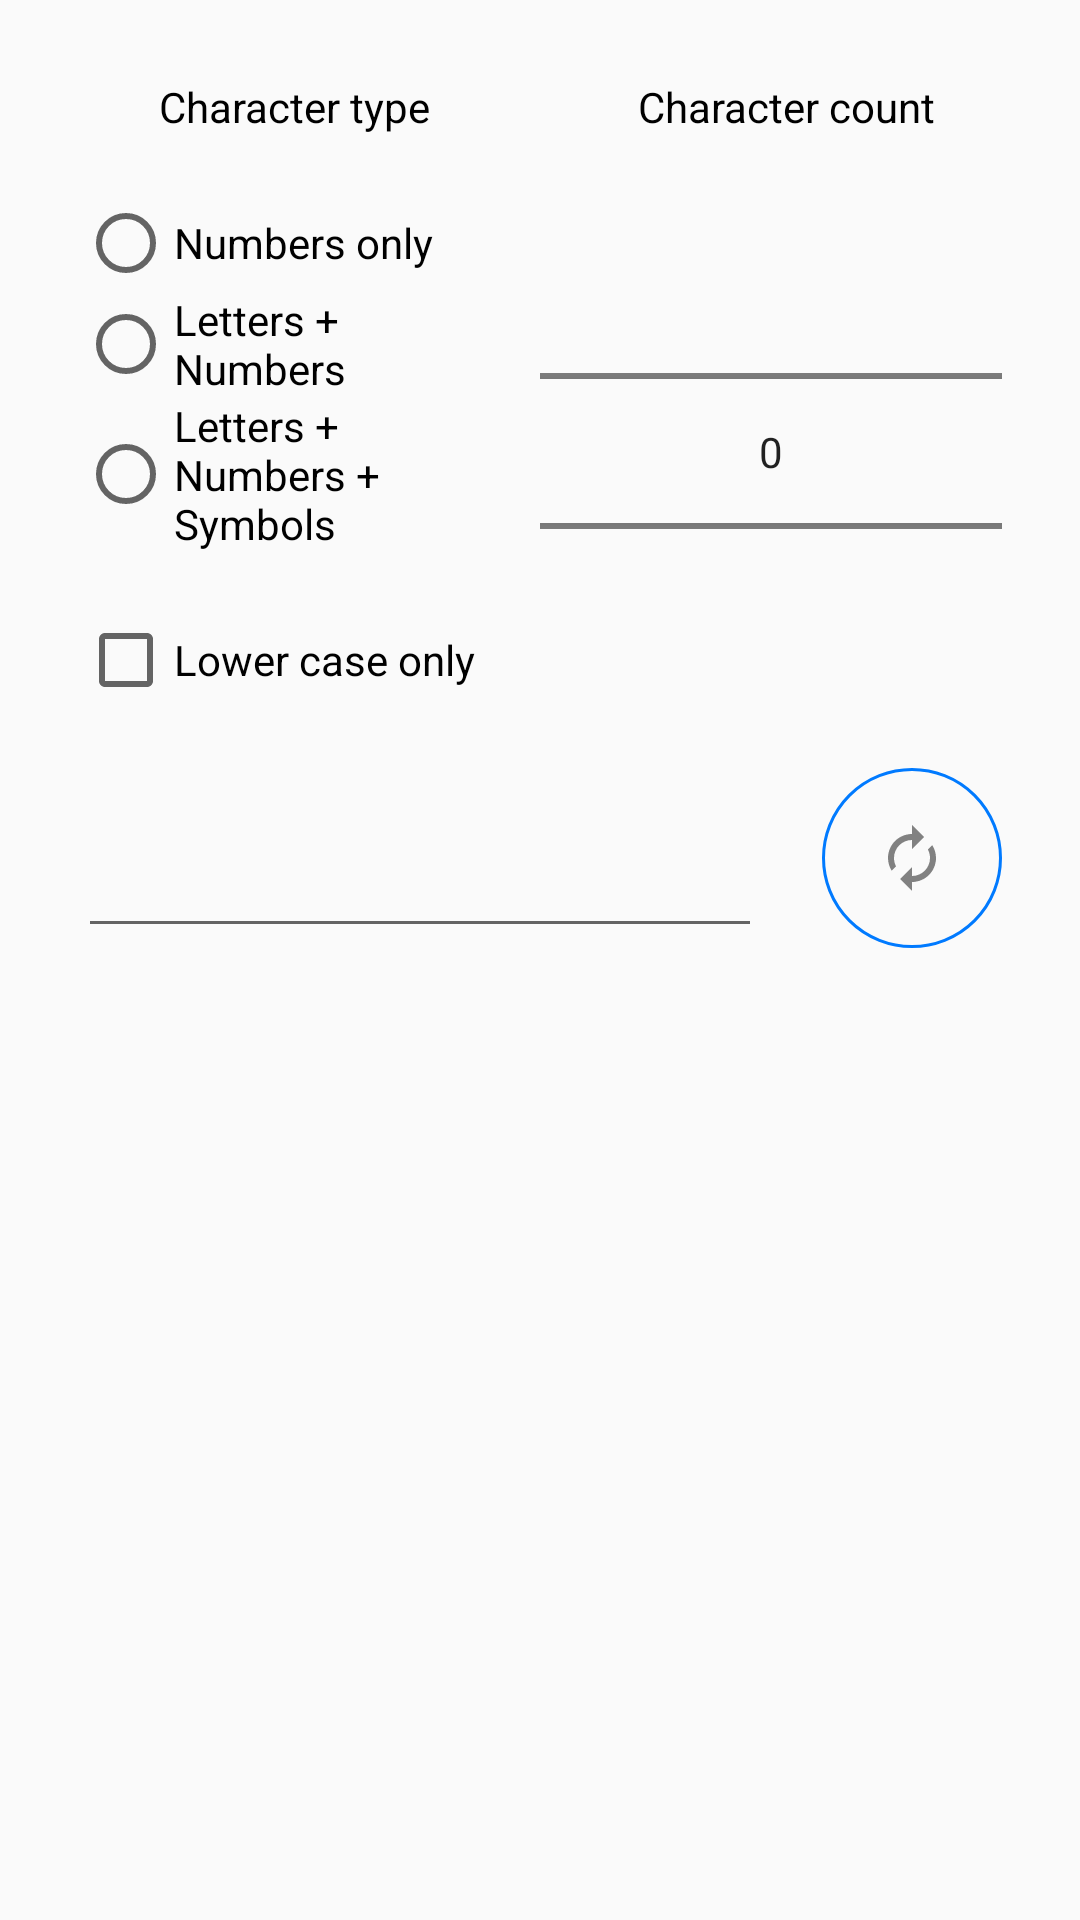

Screen size 1080w x 1920h. Icon name, then its box in pixels as bbox(x1, y1, x2, y2):
autorenew: bbox(822, 768, 1002, 948)
